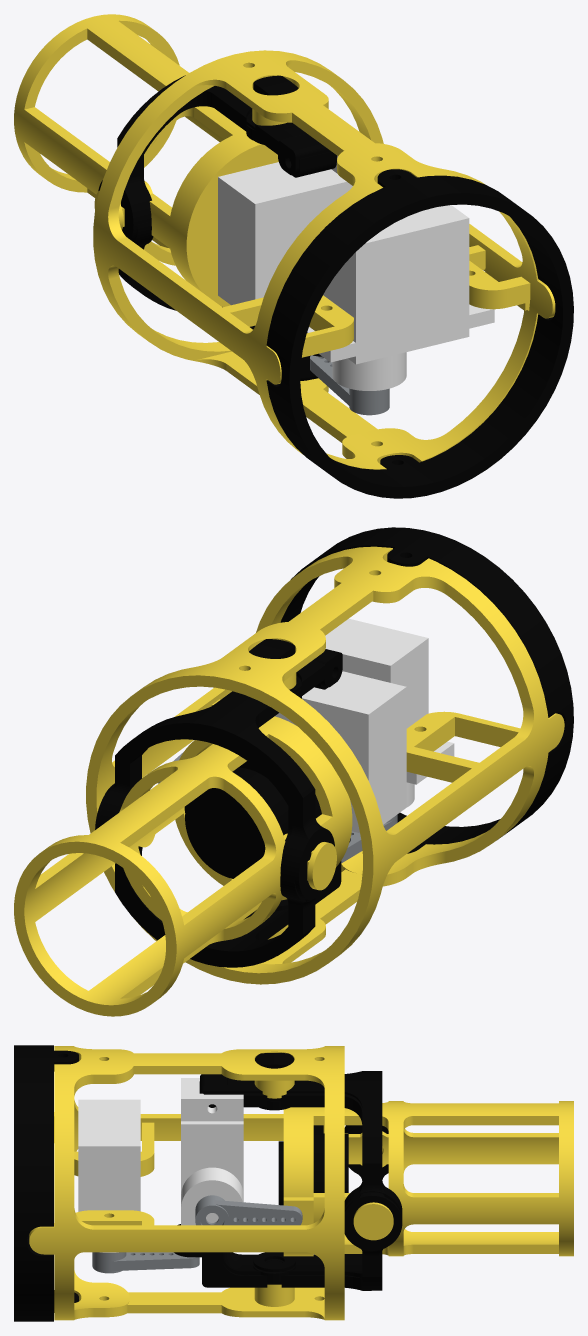
The model's file is TVC (3).glb.
The picture shows the model from 3 angles, top to bottom: view 1: azimuth 30°, elevation 25°; view 2: azimuth 150°, elevation 25°; view 3: azimuth 270°, elevation 25°; orthographic projection. The views are drawn at different scales.
Parts seen in each view (by area): view 1: Part 1 (×8), Servo Horn; view 2: Part 1 (×10); view 3: Part 1 (×10), Servo Horn (×2).
Part boxes in pixels (x1,y1,x2,y2): Part 1 (×8): [14, 14, 573, 498]; Servo Horn: [310, 355, 389, 415]; Part 1 (×10): [14, 527, 573, 1016]; Part 1 (×10): [14, 1045, 573, 1321]; Servo Horn (×2): [92, 1195, 302, 1273].
Size of the model in its own units: 0.0552 by 0.0552 by 0.1118.
